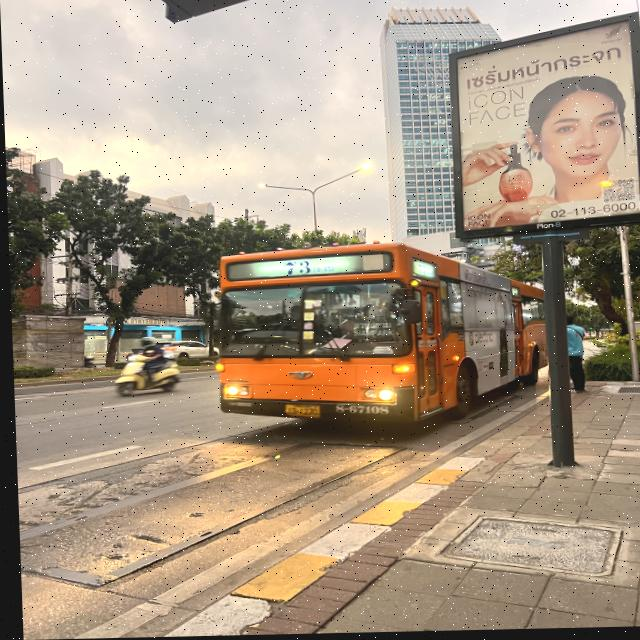BMTA-bus: (207, 242, 548, 439)
Bus-Line-Number: (278, 260, 337, 280)
Destination-Sign-Normal: (348, 320, 395, 344)
